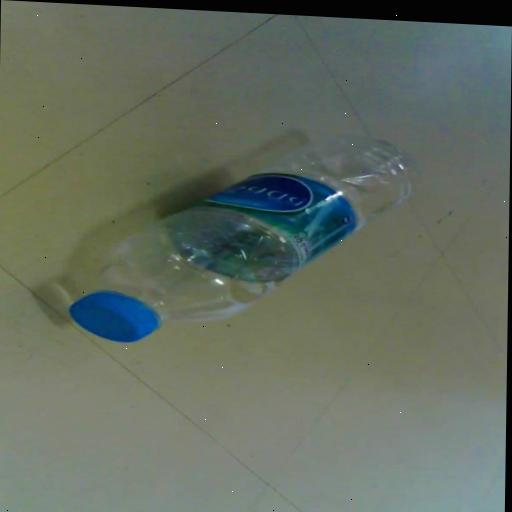bottle: (35, 96, 442, 396)
